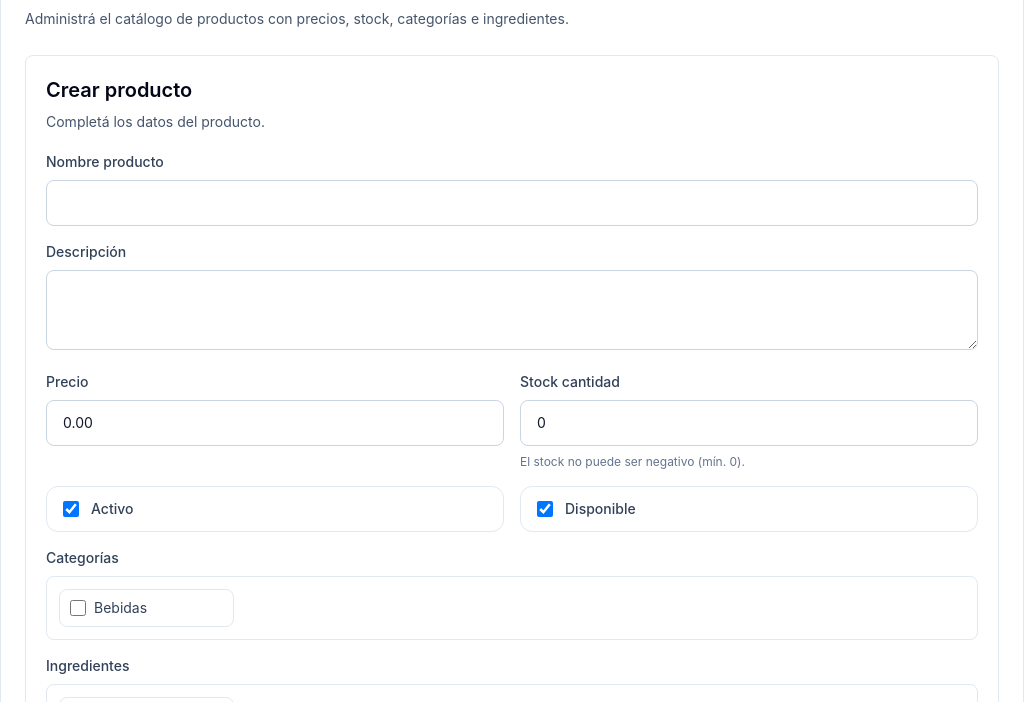
Test: ProductManagementPage › requires at least one category and one ingredient when creating a product
Type "Coca Cola" into the field labelled "Nombre producto" at point(512, 203), box x1=46 y1=180 x2=978 y2=226
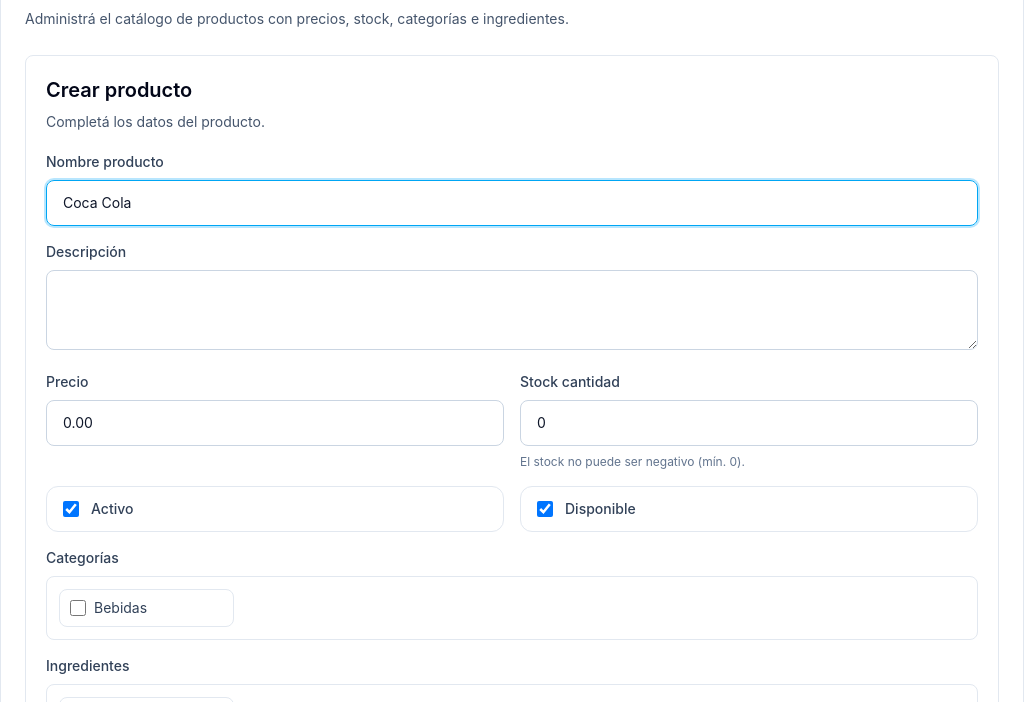
Replace the text in the number field labelled "Precio" with "10.50" at point(275, 423), box x1=46 y1=400 x2=504 y2=446
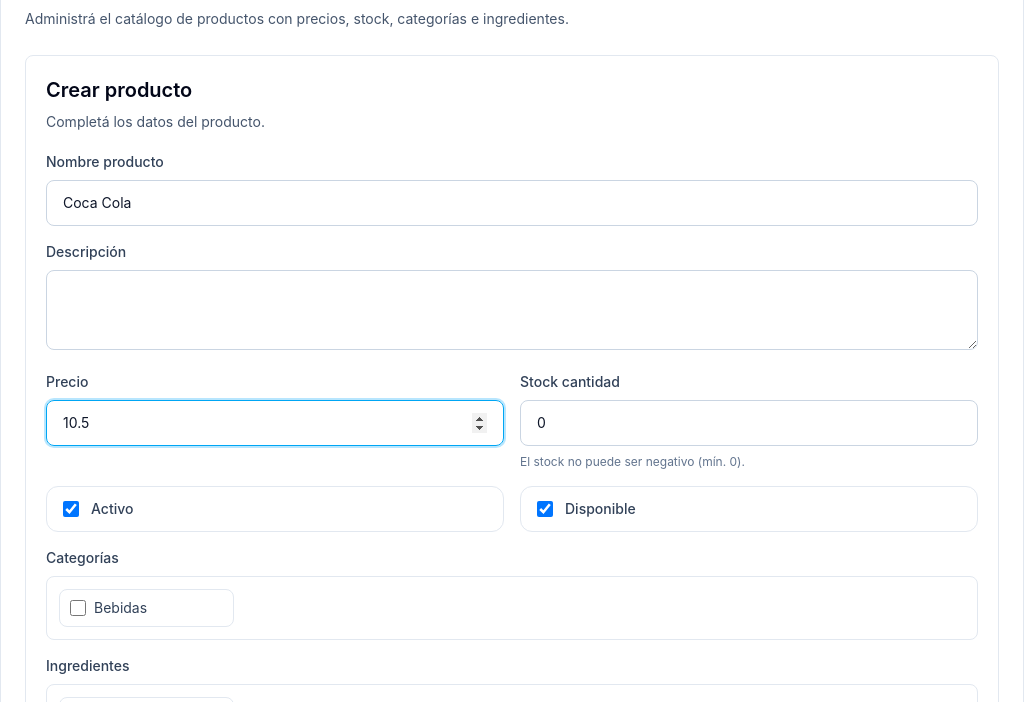
Type "5" into the number field labelled "Stock cantidad" at point(749, 423), box x1=520 y1=400 x2=978 y2=446
(page scrolled)
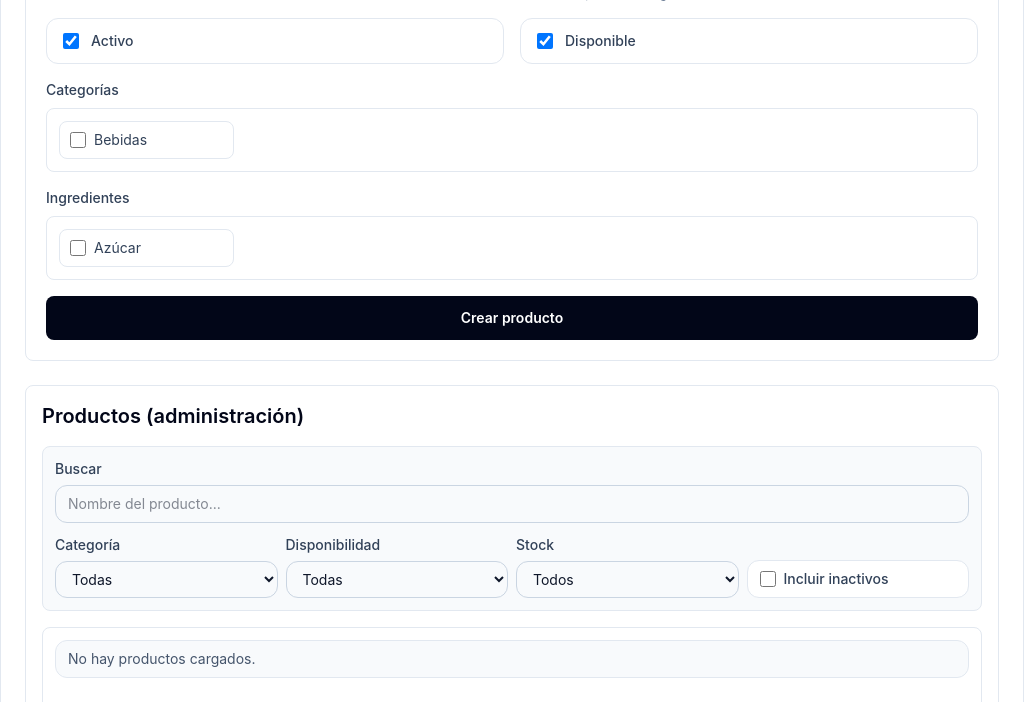
Click the button "Crear producto" at point(512, 318), box x1=46 y1=296 x2=978 y2=340
(page scrolled)
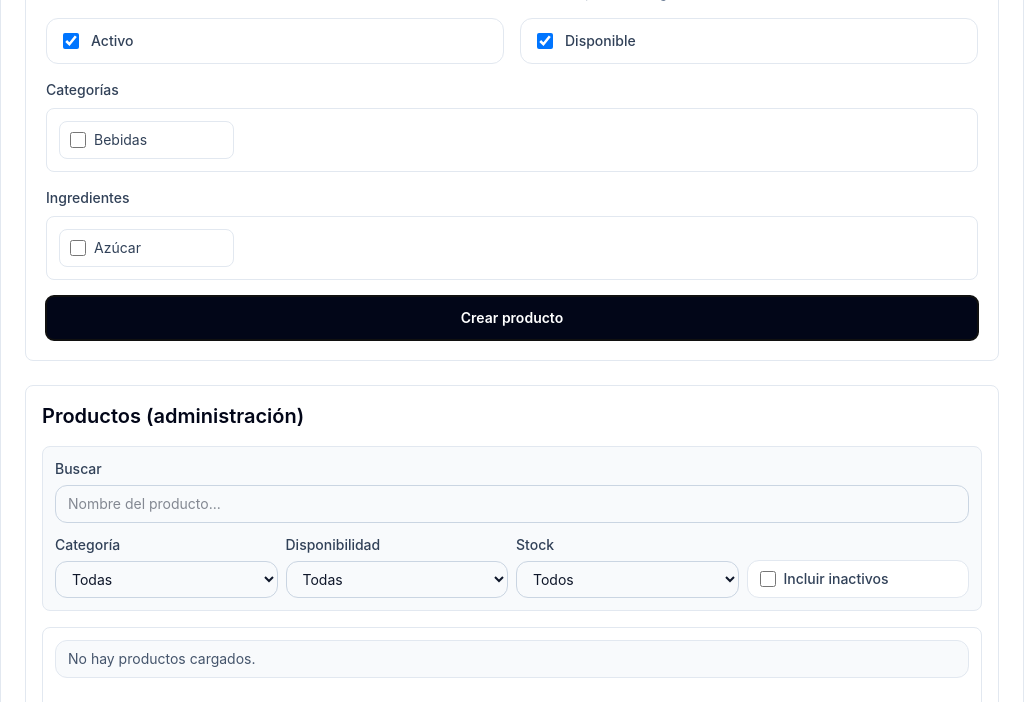
Click the checkbox labelled "Bebidas" at point(78, 140), box x1=70 y1=132 x2=86 y2=148
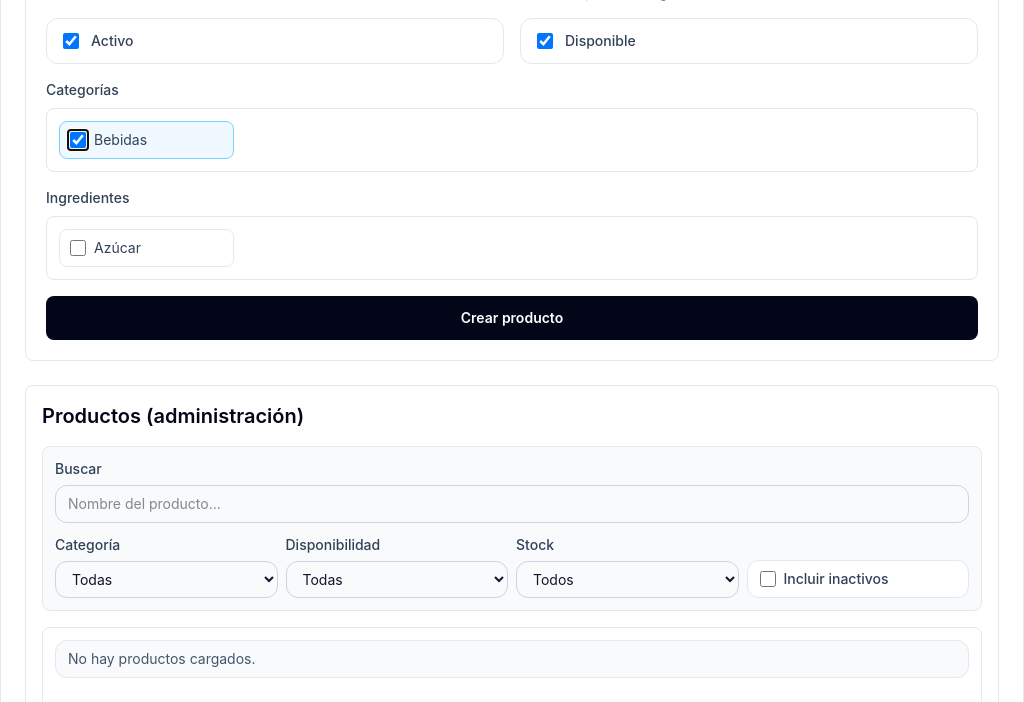
Click the button "Crear producto" at point(512, 318), box x1=46 y1=296 x2=978 y2=340
(page scrolled)
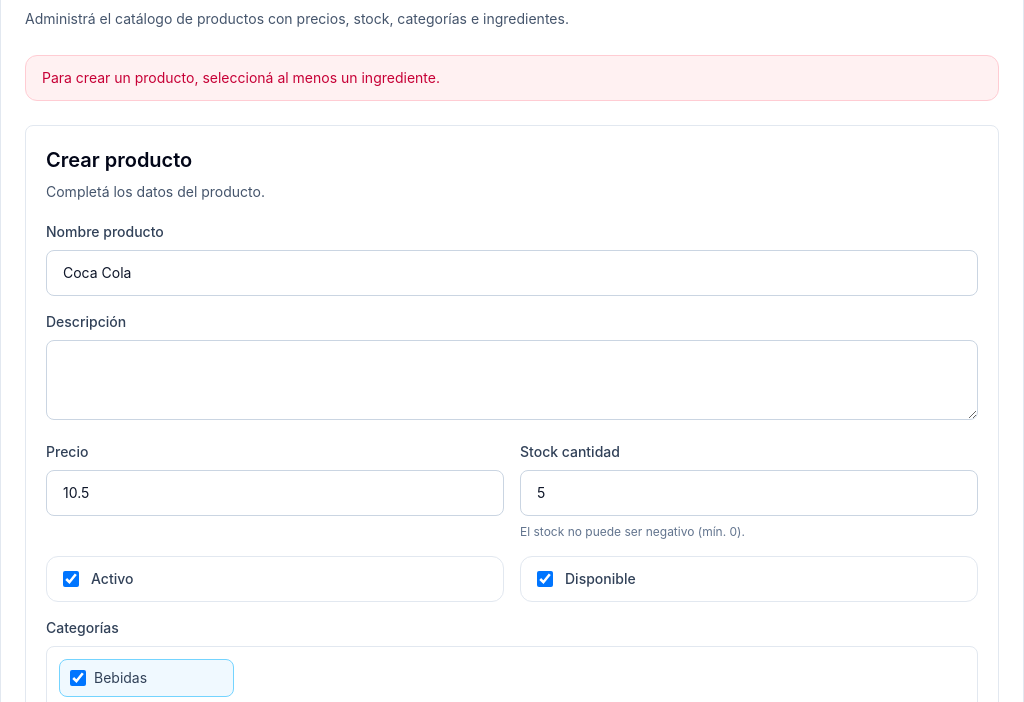
Check: the message shows "seleccioná al menos un ingrediente", box x1=42 y1=69 x2=440 y2=86
